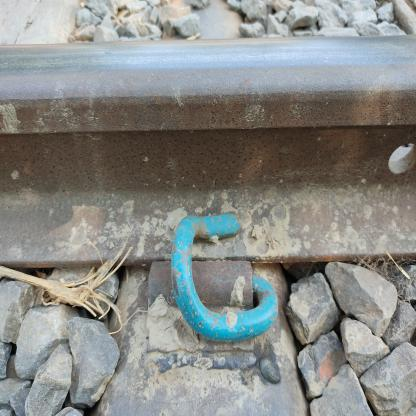Non Defective: (142, 179, 317, 383)
